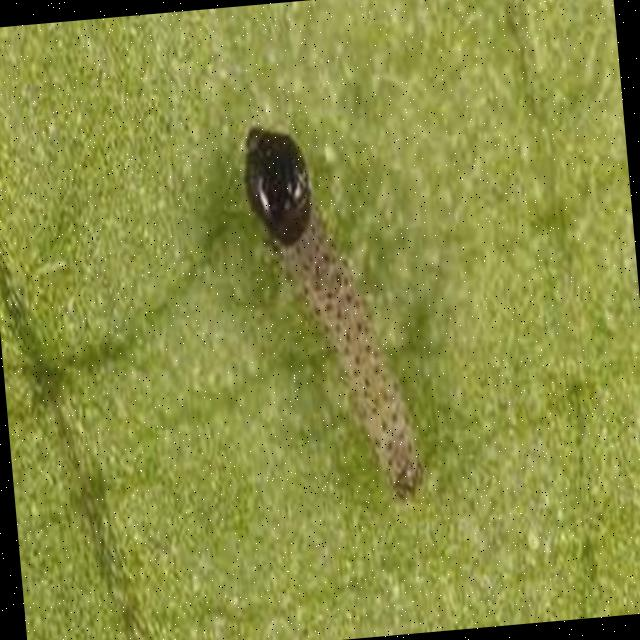worm: (240, 113, 429, 514)
